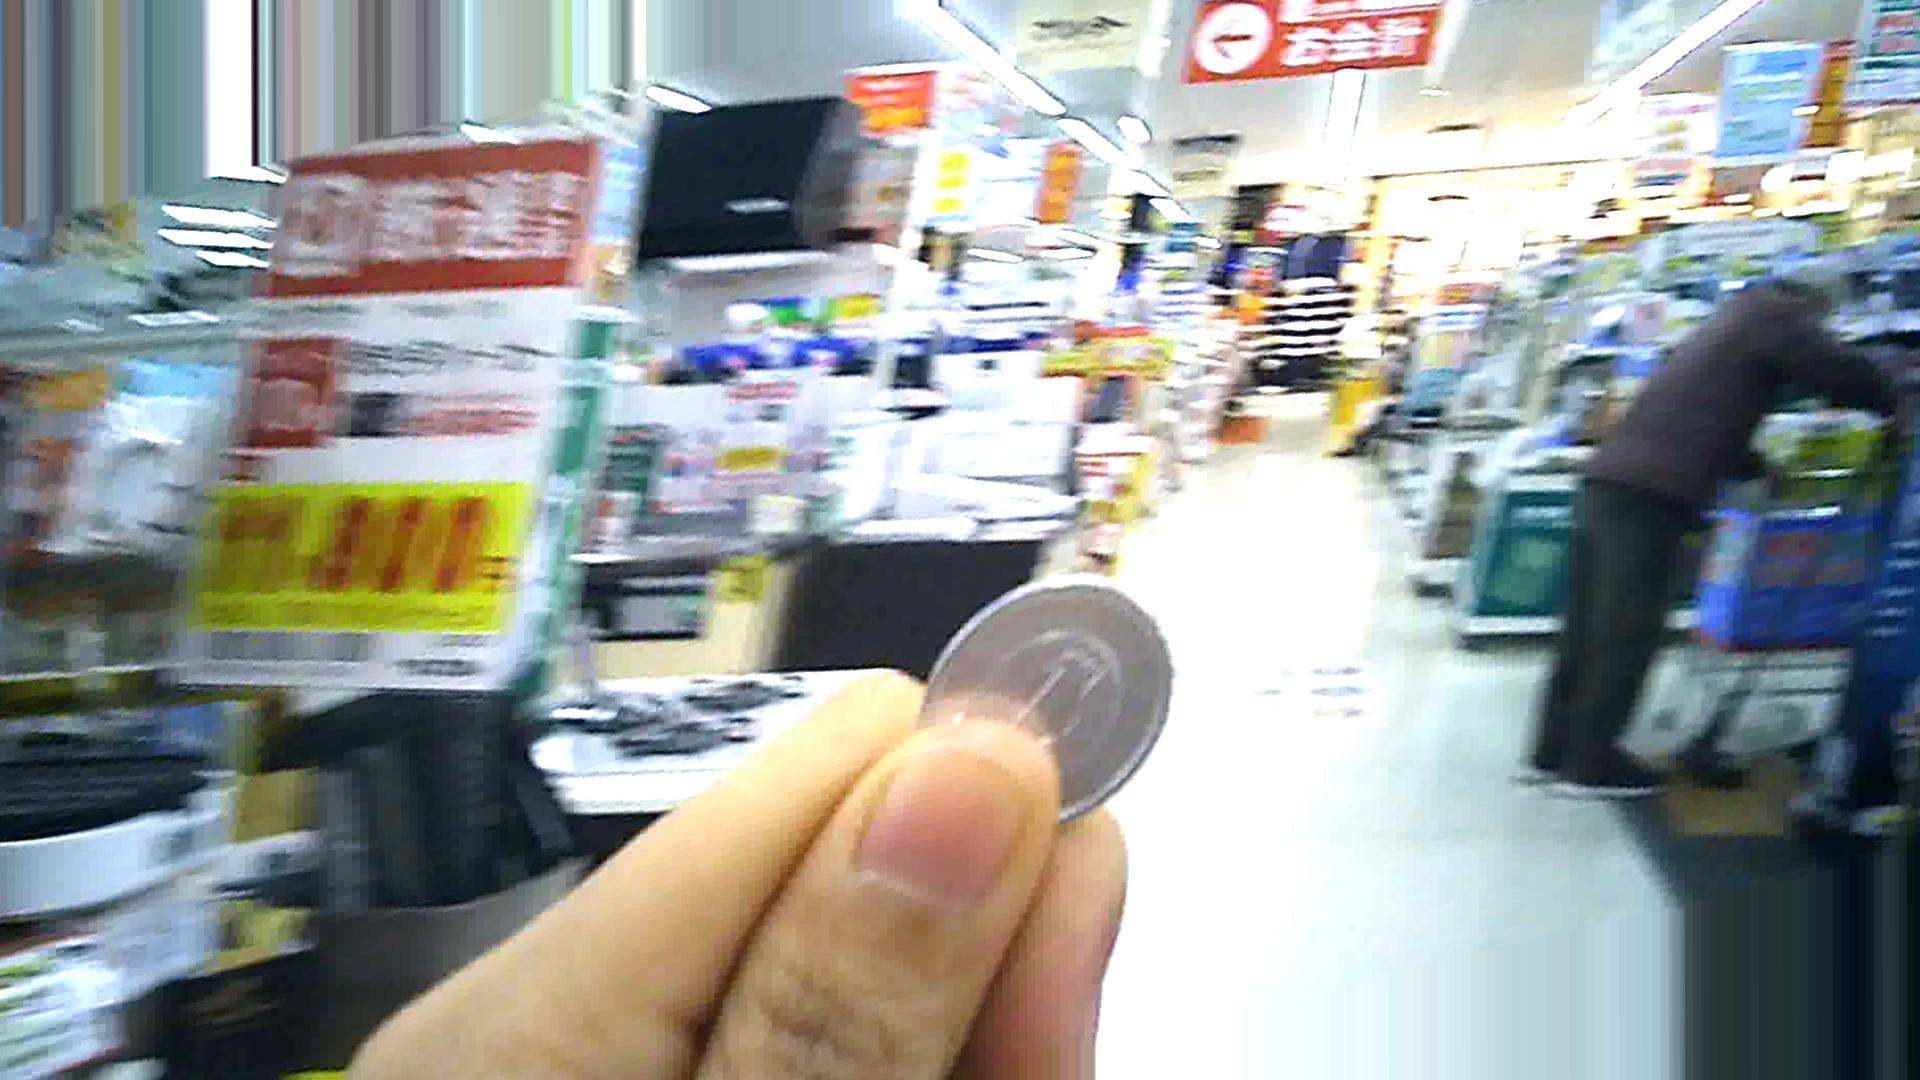1 Yen: (913, 583, 1168, 847)
